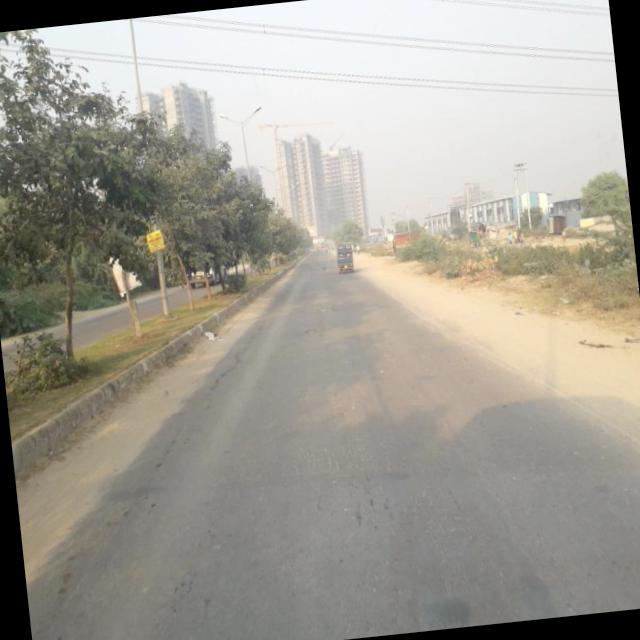pothole: (208, 320, 266, 382)
